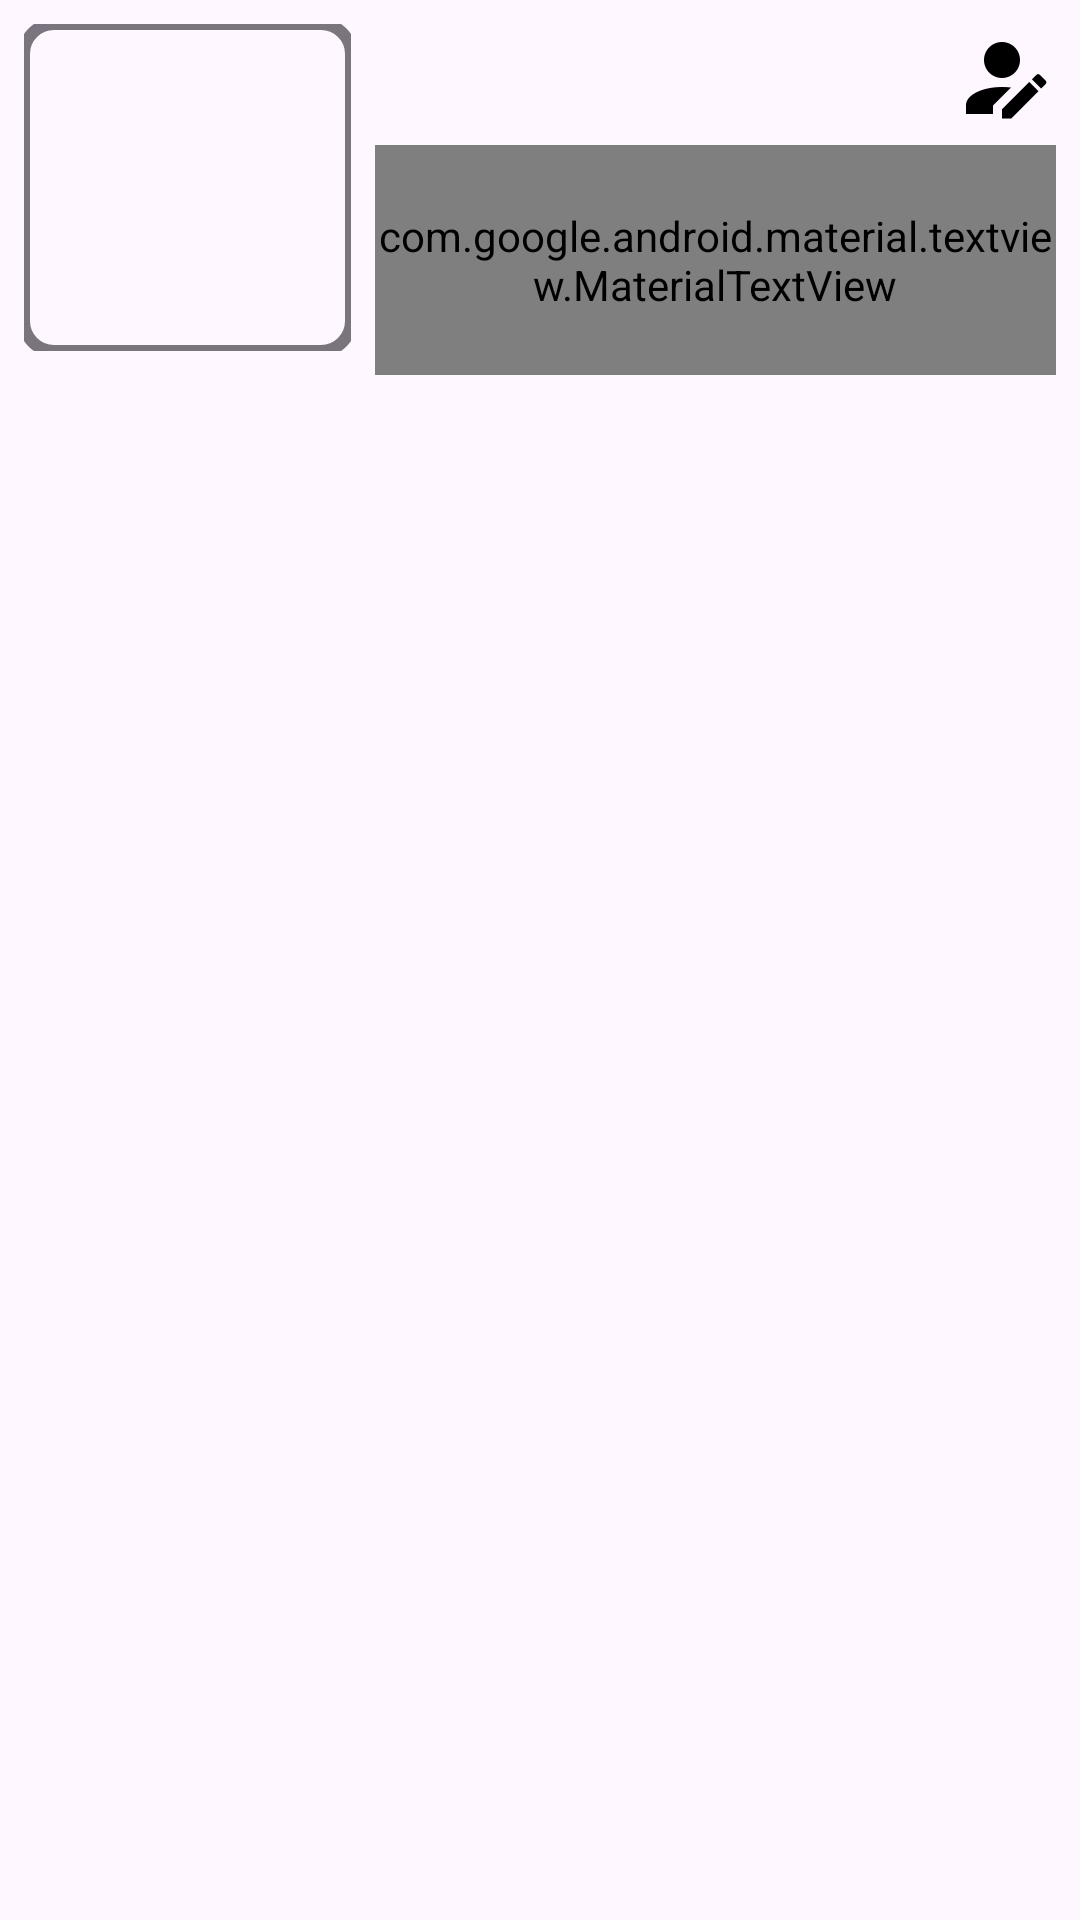

Named icons in this screenshot (1080 x 1920) and their bounding boxes, (x1, y1, x2, y2):
account edit: (966, 42, 1047, 119)
